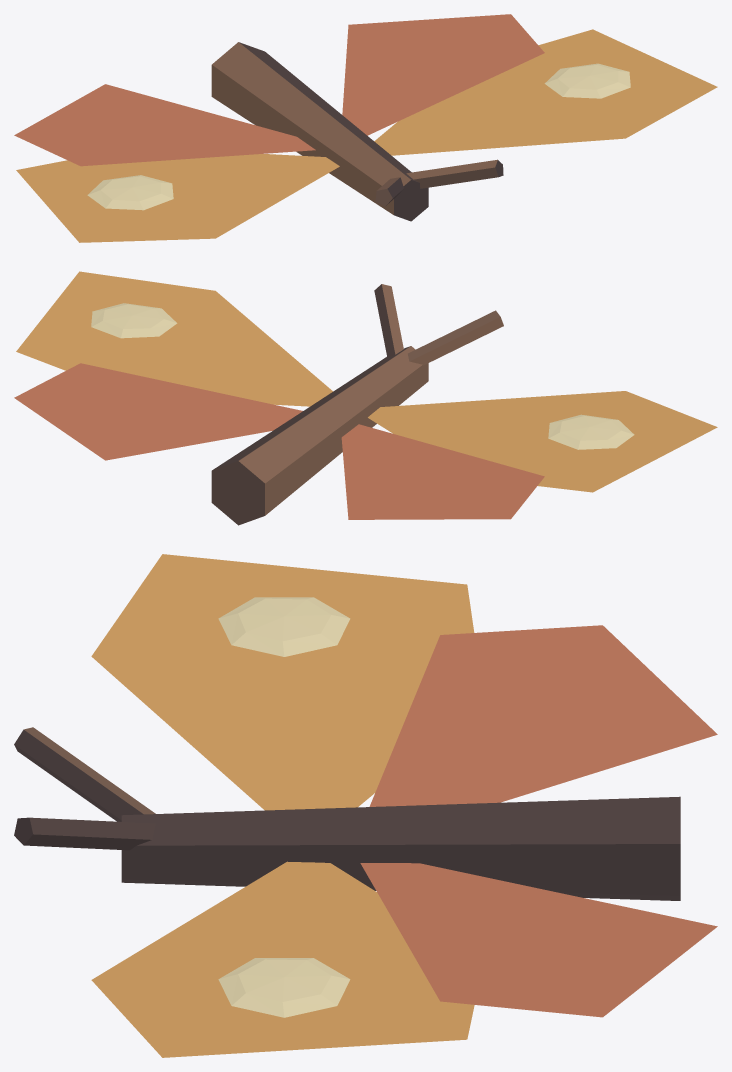
File: wild_butterfly.glb
The picture shows the model from 3 angles, top to bottom: view 1: azimuth 30°, elevation 25°; view 2: azimuth 150°, elevation 25°; view 3: azimuth 270°, elevation 25°; orthographic projection. The views are drawn at different scales.
Parts seen in each view (by area): view 1: wild_butterfly_wing_r, wild_butterfly_wing_l, wild_butterfly; view 2: wild_butterfly_wing_r, wild_butterfly_wing_l, wild_butterfly; view 3: wild_butterfly_wing_l, wild_butterfly_wing_r, wild_butterfly.
Part boxes in pixels (bbox=[...]): wild_butterfly_wing_r: bbox=[342, 14, 717, 155]; wild_butterfly_wing_l: bbox=[14, 84, 339, 242]; wild_butterfly: bbox=[211, 42, 503, 221]; wild_butterfly_wing_r: bbox=[14, 271, 332, 460]; wild_butterfly_wing_l: bbox=[341, 391, 717, 519]; wild_butterfly: bbox=[211, 284, 503, 525]; wild_butterfly_wing_l: bbox=[91, 554, 717, 810]; wild_butterfly_wing_r: bbox=[91, 861, 717, 1057]; wild_butterfly: bbox=[14, 727, 680, 900].
Size of the model in its own units: 0.352 by 0.0421 by 0.2078.
